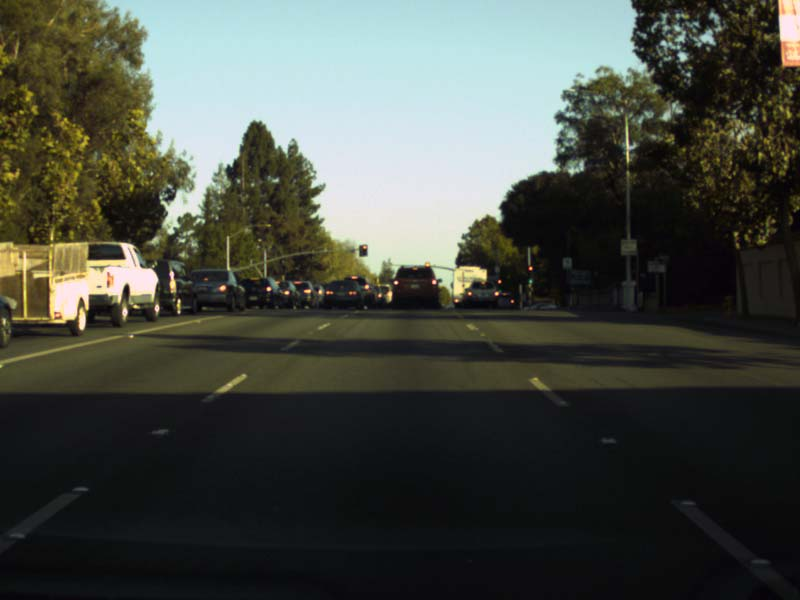Red: (361, 244, 366, 255), (496, 278, 502, 286), (528, 265, 533, 274), (424, 262, 429, 269)
